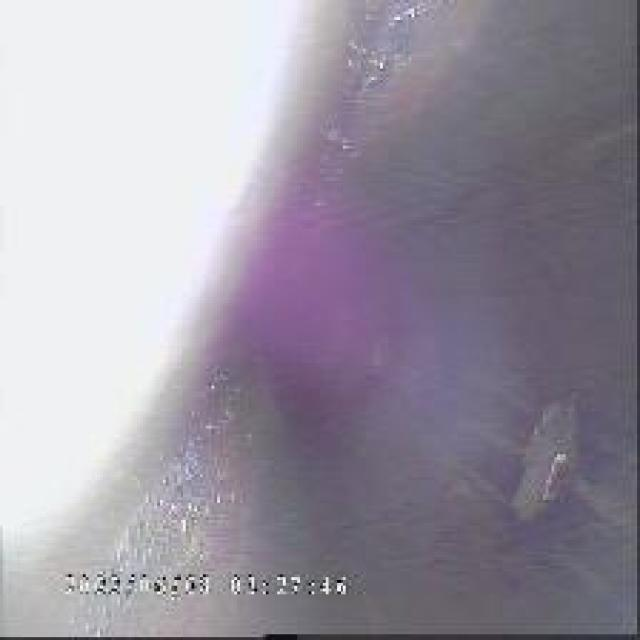ferrule: (506, 409, 600, 517)
